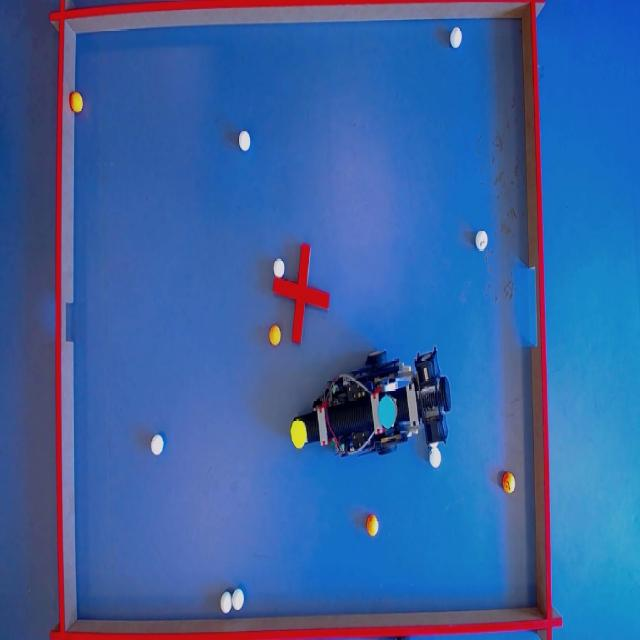orange: (269, 325, 282, 347), (368, 515, 381, 536), (71, 90, 83, 112), (505, 475, 517, 493)
robot: (290, 356, 458, 459)
robot-front: (290, 421, 309, 449)
robot-rear: (375, 391, 396, 429)
white: (230, 588, 245, 610), (237, 130, 251, 151), (152, 434, 165, 456), (221, 591, 234, 613), (450, 26, 462, 47), (272, 258, 284, 279), (430, 448, 442, 467), (476, 231, 488, 249)
